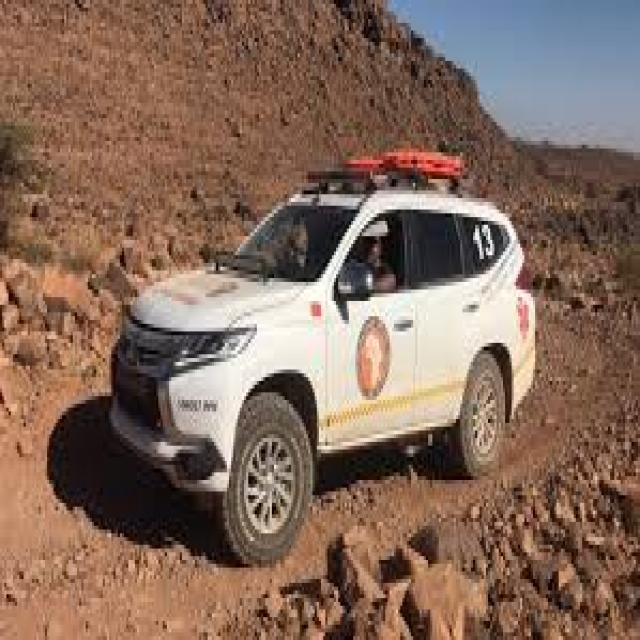ambulance: (82, 130, 550, 576)
